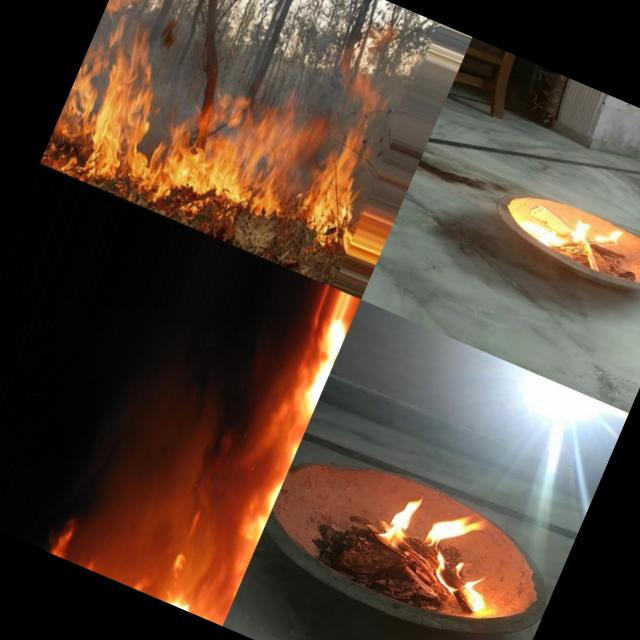fire: (48, 256, 347, 626), (40, 0, 402, 284), (404, 498, 522, 622), (498, 188, 636, 282), (361, 481, 430, 556)
